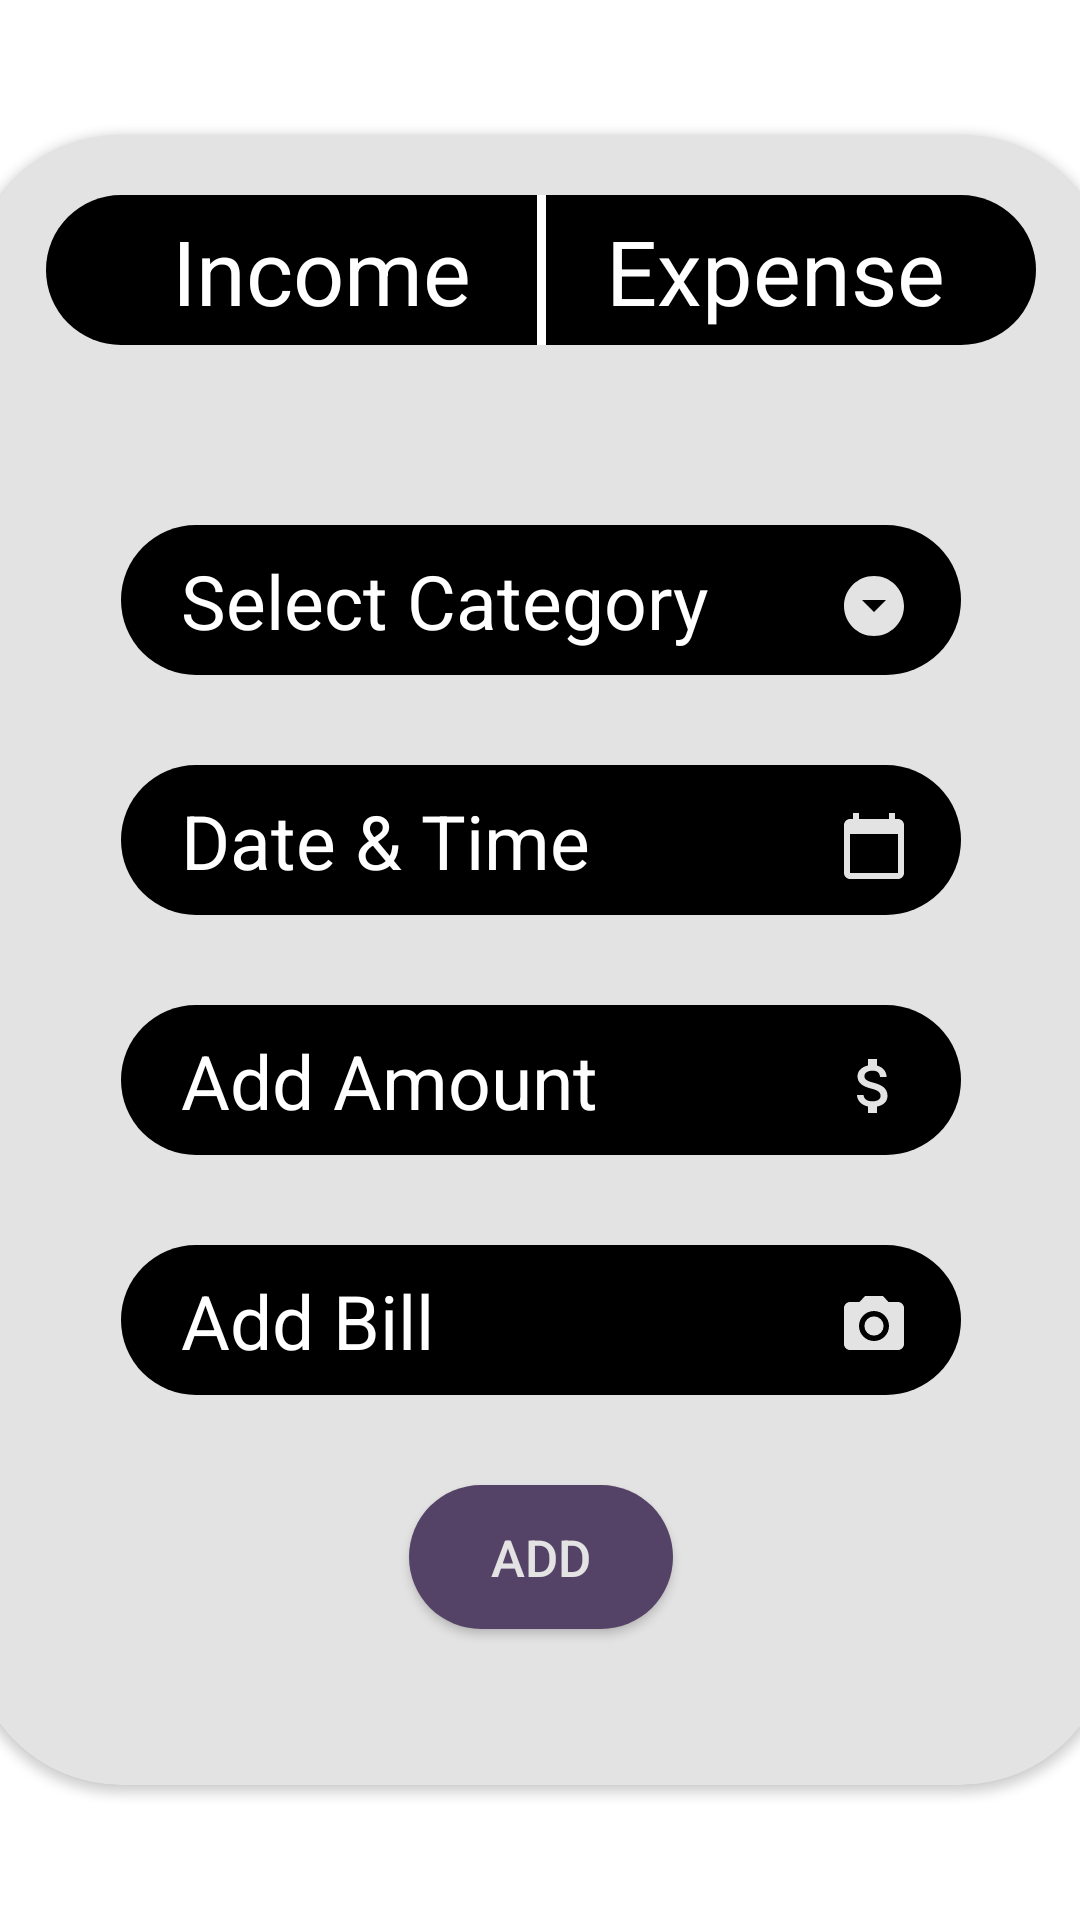

Point at icon controls on the screen. Image size 1080 × 1920, points as (x,y).
arrow: (874,606)
calender: (874,846)
camera: (874,1323)
money: (872,1086)
